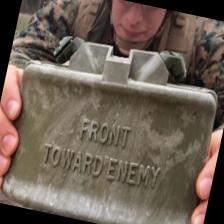MOH-50: (0, 32, 223, 224)
